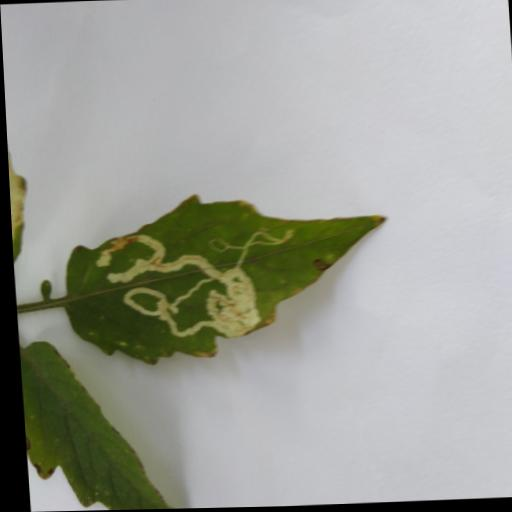Leaf_Miner: (56, 188, 391, 364)
